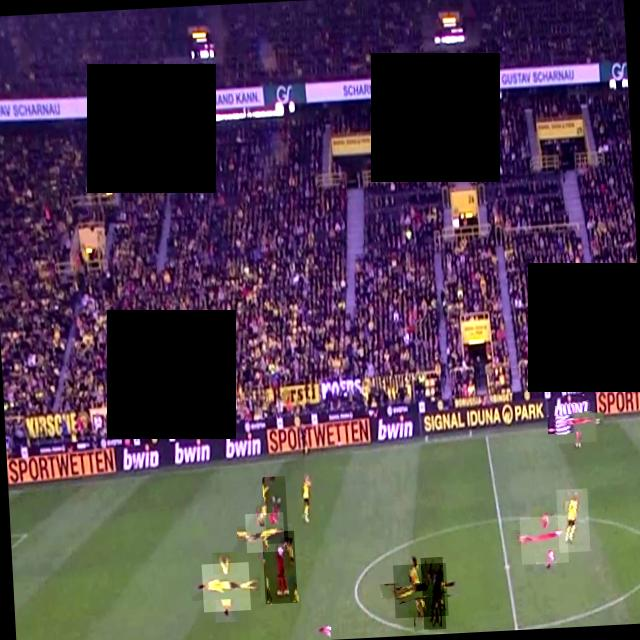referee: (421, 557, 446, 630)
soccer-player: (393, 562, 449, 618), (262, 531, 298, 605), (202, 562, 251, 612), (520, 516, 569, 564), (556, 488, 590, 553), (554, 402, 596, 444), (245, 512, 285, 553), (264, 476, 288, 544), (296, 470, 319, 530), (307, 618, 335, 640)
